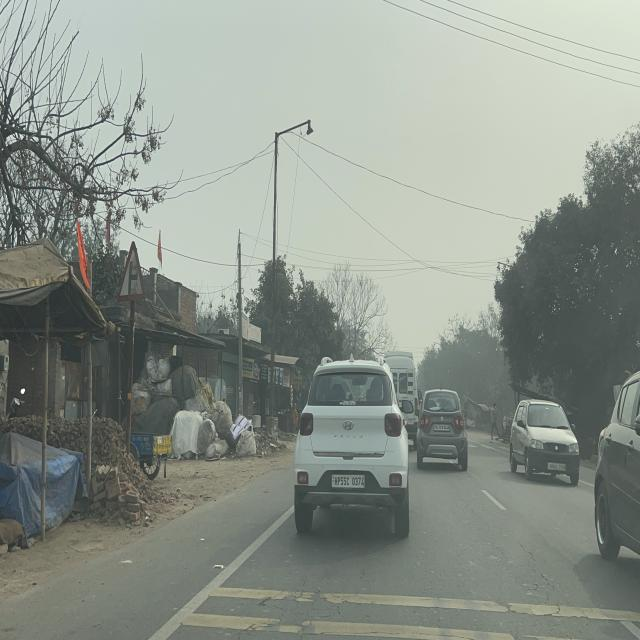SIDE_ROAD_RIGHT: (115, 239, 149, 301)
